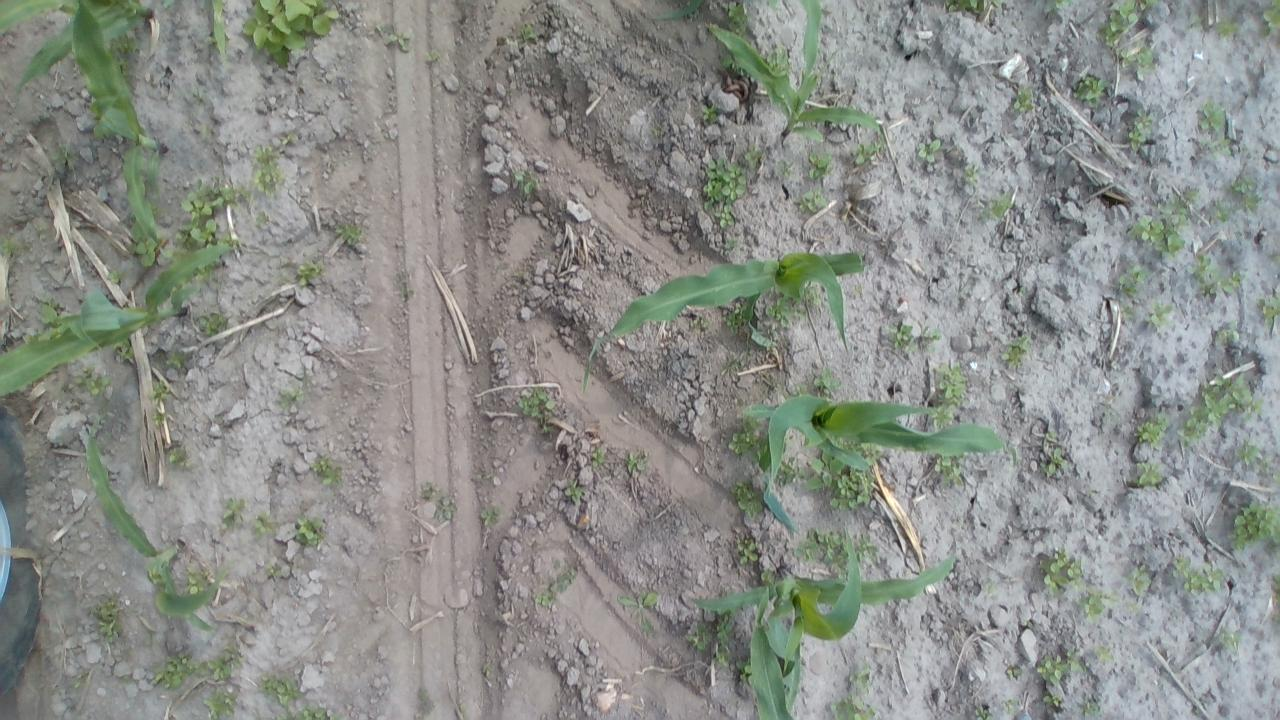Maize: (688, 536, 960, 710), (583, 253, 868, 386), (742, 396, 1016, 534), (1, 242, 234, 393), (86, 434, 216, 632), (73, 1, 168, 249), (705, 23, 884, 138), (0, 1, 228, 90), (648, 0, 818, 75), (751, 588, 800, 720)
Weeds: (157, 654, 241, 684), (1230, 501, 1278, 550), (285, 1, 338, 36), (250, 25, 304, 59), (1039, 554, 1080, 596), (616, 594, 658, 634), (242, 0, 280, 35), (936, 366, 970, 400), (1120, 253, 1148, 294), (828, 696, 875, 719), (548, 566, 579, 600), (1233, 176, 1262, 212), (766, 296, 796, 330), (1128, 48, 1158, 82), (1201, 388, 1231, 422), (1130, 556, 1154, 598), (1036, 655, 1067, 685), (1108, 7, 1140, 36), (183, 190, 213, 219), (1080, 76, 1110, 105), (206, 691, 236, 720), (934, 456, 963, 485), (210, 176, 240, 204), (686, 622, 714, 652), (806, 462, 834, 490), (850, 473, 873, 507), (1160, 198, 1186, 228), (814, 530, 840, 558), (1082, 592, 1110, 618), (798, 190, 829, 213), (1229, 374, 1252, 405), (736, 483, 758, 515), (1202, 100, 1224, 132), (1202, 200, 1230, 224), (51, 144, 76, 170), (815, 367, 840, 392), (192, 220, 218, 244), (1145, 302, 1171, 326), (1142, 216, 1164, 244), (1044, 446, 1065, 475), (1260, 5, 1280, 35), (1115, 0, 1148, 18), (1259, 294, 1280, 322), (916, 138, 940, 162), (536, 388, 560, 412), (516, 170, 539, 195), (809, 152, 831, 178), (1194, 255, 1215, 282), (1134, 422, 1162, 442), (838, 474, 861, 498), (848, 663, 872, 686), (298, 515, 320, 540), (276, 681, 301, 703), (792, 541, 822, 559), (98, 604, 116, 634), (96, 172, 115, 200), (252, 166, 274, 190), (1163, 231, 1185, 255), (1186, 415, 1209, 437), (334, 222, 360, 241), (892, 322, 911, 348), (566, 478, 585, 504), (296, 260, 318, 282), (1138, 461, 1160, 483), (1203, 566, 1223, 590), (517, 396, 541, 416), (704, 180, 722, 206), (738, 542, 759, 564), (1034, 426, 1056, 447), (1170, 556, 1192, 577), (1042, 0, 1064, 21), (858, 537, 878, 560), (1066, 650, 1086, 673), (87, 377, 112, 395), (136, 240, 156, 262), (253, 144, 275, 164), (1014, 90, 1034, 112), (712, 644, 732, 666), (481, 504, 501, 525), (981, 201, 1000, 223), (853, 144, 873, 164), (1184, 572, 1203, 593), (198, 314, 216, 336), (1224, 272, 1242, 294), (1219, 624, 1237, 646), (626, 451, 643, 474), (768, 50, 792, 66), (166, 348, 185, 368), (706, 157, 724, 178), (728, 434, 749, 452), (1219, 328, 1240, 346), (176, 224, 193, 246), (722, 181, 744, 198), (1134, 110, 1151, 132), (152, 376, 168, 399), (964, 162, 980, 185), (1130, 128, 1146, 151), (533, 592, 552, 611), (1238, 441, 1256, 461), (225, 496, 242, 517), (391, 33, 412, 50), (952, 0, 979, 13), (701, 103, 719, 122), (1044, 694, 1066, 709), (322, 467, 340, 485), (1179, 430, 1198, 447), (743, 420, 757, 443), (724, 169, 744, 185), (1000, 348, 1020, 364), (935, 406, 952, 424), (41, 304, 58, 322), (73, 367, 91, 384), (728, 3, 746, 20), (717, 207, 733, 226), (252, 515, 272, 530), (421, 480, 436, 500), (1201, 282, 1217, 300), (1093, 644, 1111, 660), (716, 622, 732, 640), (302, 706, 322, 720), (440, 498, 454, 518), (997, 192, 1011, 212), (262, 676, 278, 692), (167, 446, 183, 462), (1081, 701, 1097, 717), (278, 392, 297, 405), (119, 346, 134, 362), (185, 578, 202, 592), (0, 234, 14, 251), (1014, 335, 1028, 352), (1209, 374, 1226, 388), (829, 497, 848, 509), (924, 327, 940, 341), (789, 468, 804, 482), (745, 148, 758, 164), (722, 236, 738, 249), (1251, 395, 1264, 411), (761, 568, 774, 584), (119, 41, 137, 52), (266, 563, 280, 577), (1156, 412, 1170, 426), (520, 28, 535, 41), (1271, 573, 1280, 594), (591, 452, 603, 467), (427, 48, 439, 62), (976, 706, 990, 718), (1006, 667, 1021, 678), (873, 138, 882, 156), (1120, 307, 1134, 318), (108, 269, 118, 283), (316, 462, 326, 472)
